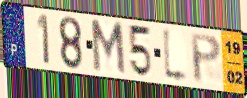1: (36, 13, 51, 67)
5: (126, 22, 153, 79)
8: (58, 15, 84, 71)
L: (161, 25, 191, 87)
M: (89, 19, 128, 78)
P: (189, 32, 224, 86)
